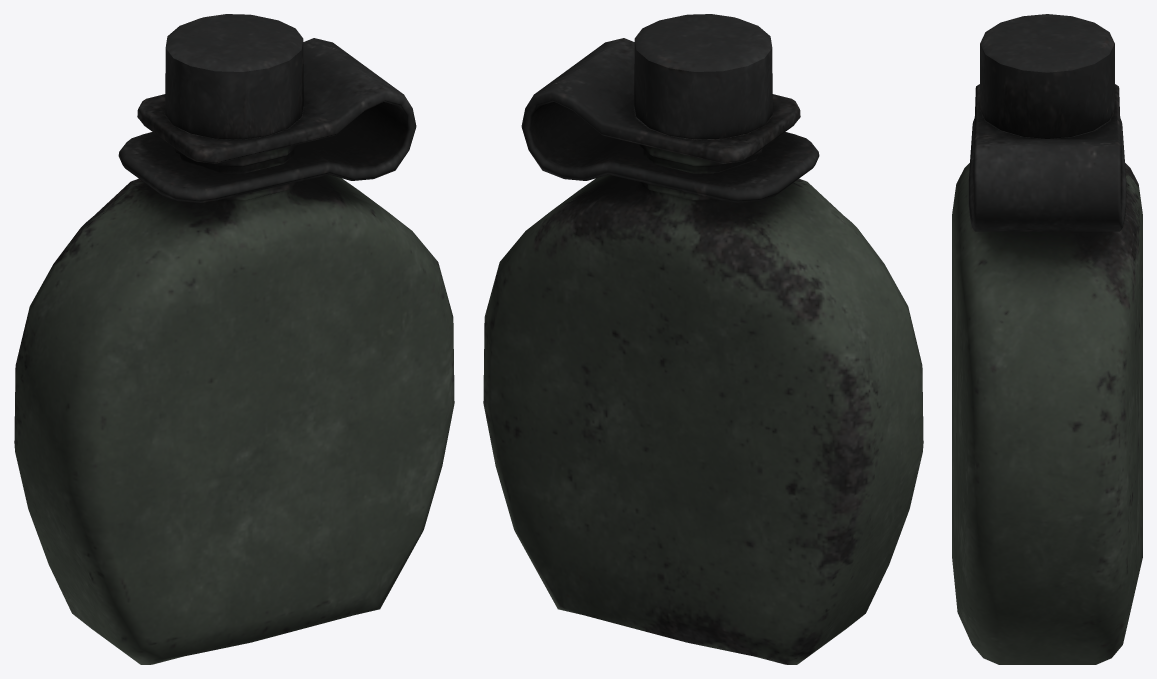
File: Canteen_01.fbx
3 views of the same model, side by side, from view 1: azimuth 30°, elevation 25°; view 2: azimuth 150°, elevation 25°; view 3: azimuth 270°, elevation 25° (orthographic).
Visible parts, largest first — view 1: Canteen; view 2: Canteen; view 3: Canteen.
Boxes of the visible parts, x1,y1,x2,y2 form: Canteen: (14, 14, 454, 664); Canteen: (483, 14, 923, 664); Canteen: (952, 14, 1142, 664).
Bounding box in the file's own units: 10.71 × 15.16 × 4.6.
Materials: 1 (1 with a texture image).
